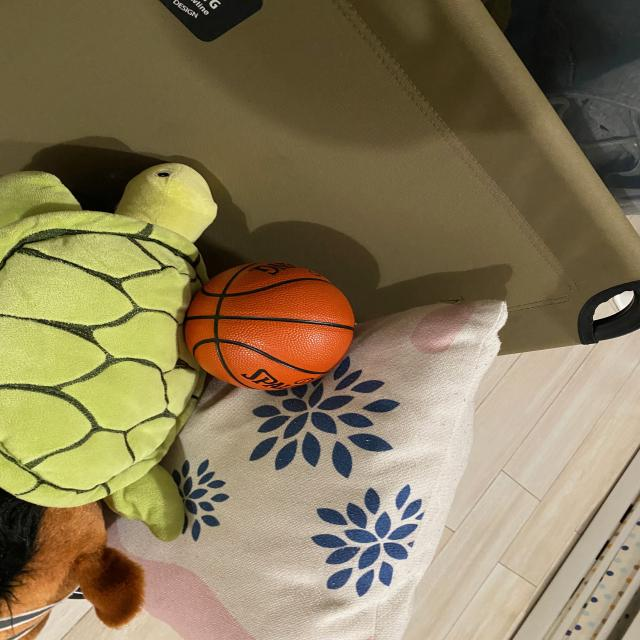Ball: (165, 248, 375, 404)
